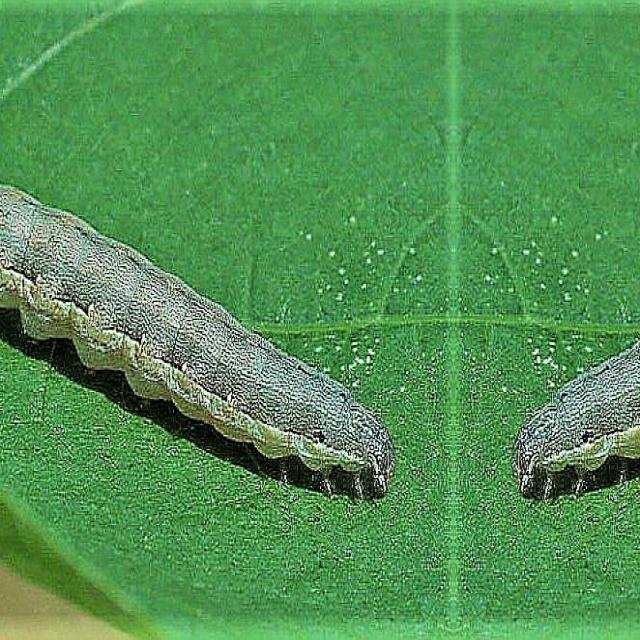Armyworm: (1, 122, 419, 542), (492, 274, 640, 619)
